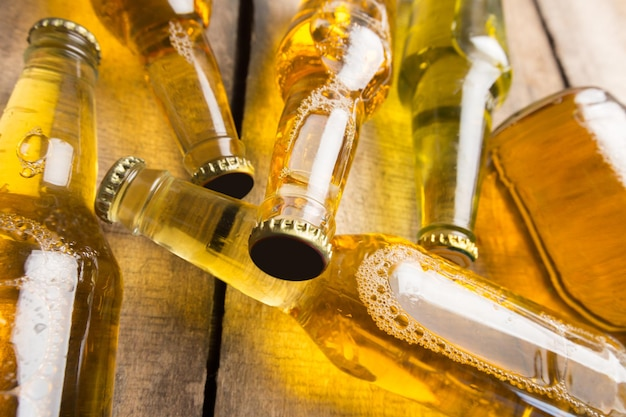alcohol: (94, 156, 626, 417), (0, 16, 122, 417), (248, 0, 393, 284), (91, 0, 253, 202), (394, 1, 516, 269)
